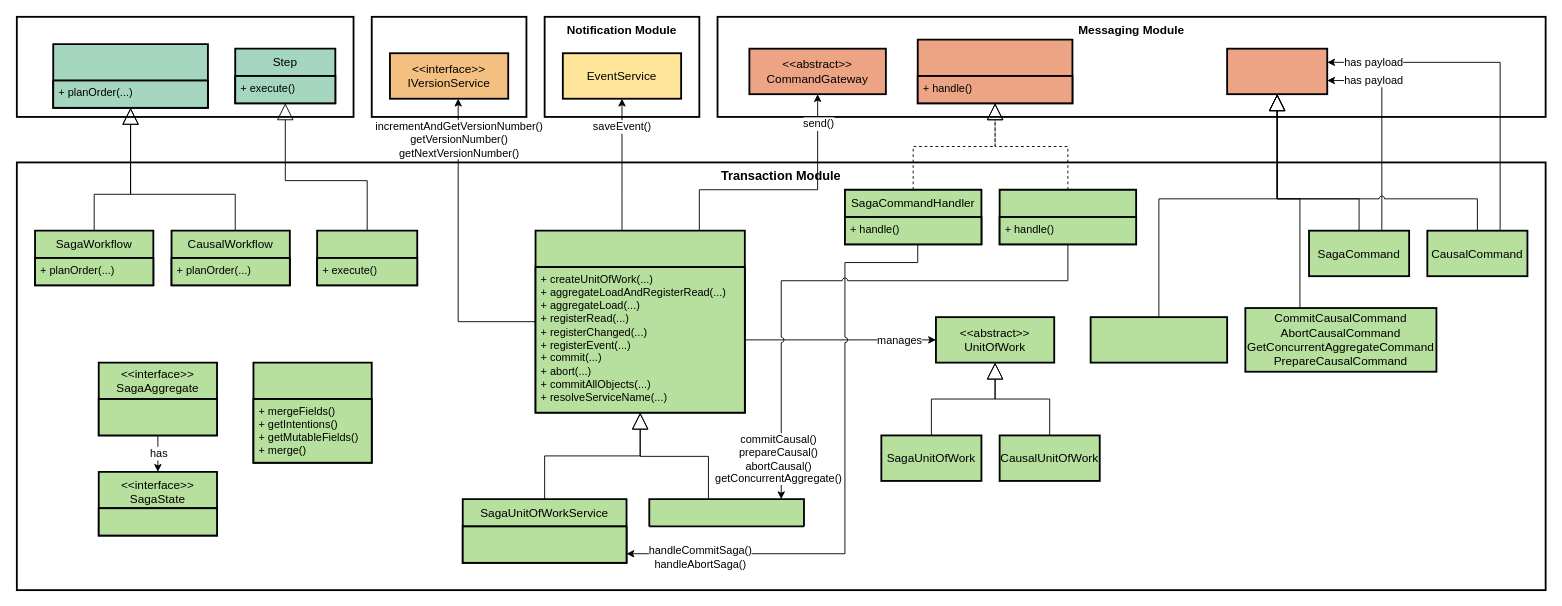
Image size: 1562x606. Some labels were removed from this diagram. The shapes that lost their labels are listed below. From the top down, each one's box as (x1, y1, x2, y2) in pixels, then its label:
(52, 43, 208, 108): <<abstract>> Workflow
(15, 15, 354, 117): Coordination Module
(370, 15, 527, 117): Versioning Module
(916, 38, 1073, 104): <<interface>> CommandHandlerDecorator
(1226, 47, 1328, 95): Command
(998, 188, 1137, 245): CausalCommandHandler
(316, 229, 418, 286): SagaStep
(534, 229, 745, 413): <<abstract>> UnitOfWorkService
(1089, 316, 1228, 363): CommitSagaCommand AbortSagaCommand
(97, 398, 217, 436): + setSagaState() + getSagaState()
(252, 361, 372, 463): <<interface>> CausalAggregate
(97, 507, 217, 536): + getStateName()
(648, 498, 804, 527): CausalUnitOfWorkService
(461, 525, 627, 563): + verifySagaState() + registerSagaState()
